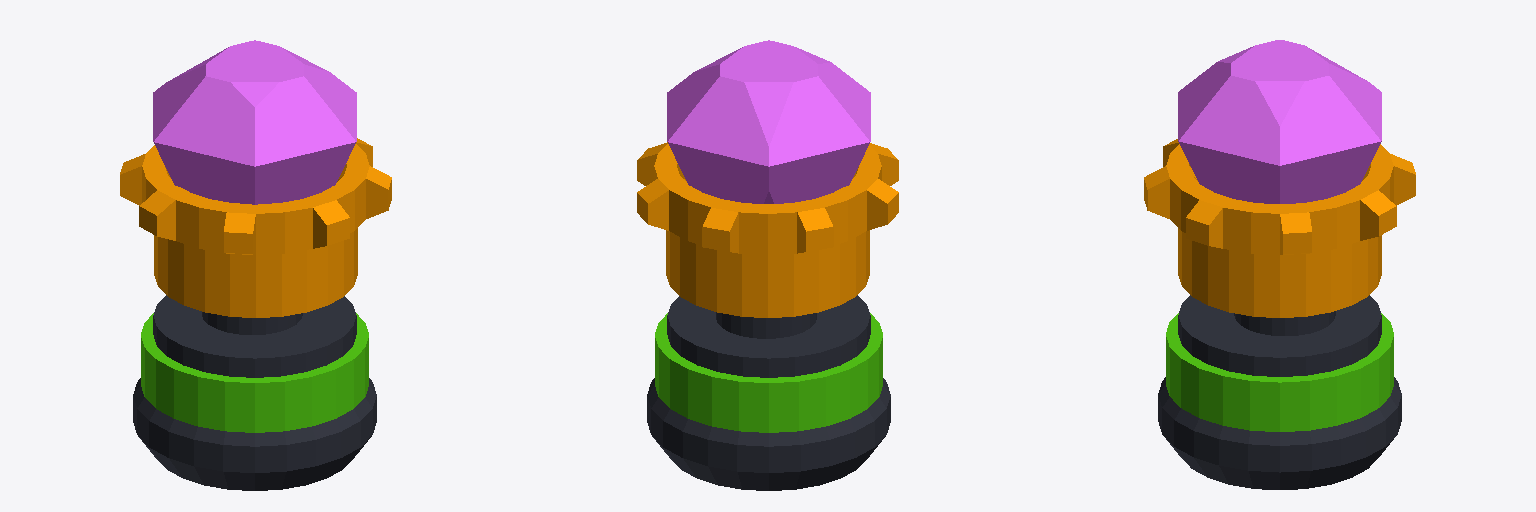
File: tower_pink_diamond.obj
3 views of the same model, side by side, from view 1: azimuth 30°, elevation 25°; view 2: azimuth 150°, elevation 25°; view 3: azimuth 270°, elevation 25° (orthographic).
Parts seen in each view (by area): view 1: mergedBlocks; view 2: mergedBlocks; view 3: mergedBlocks.
Boxes of the visible parts, <box> form: mergedBlocks: <box>120,40,391,490</box>; mergedBlocks: <box>637,40,898,490</box>; mergedBlocks: <box>1144,40,1415,489</box>.
Bounding box in the file's own units: 1.07 × 1.67 × 1.07.